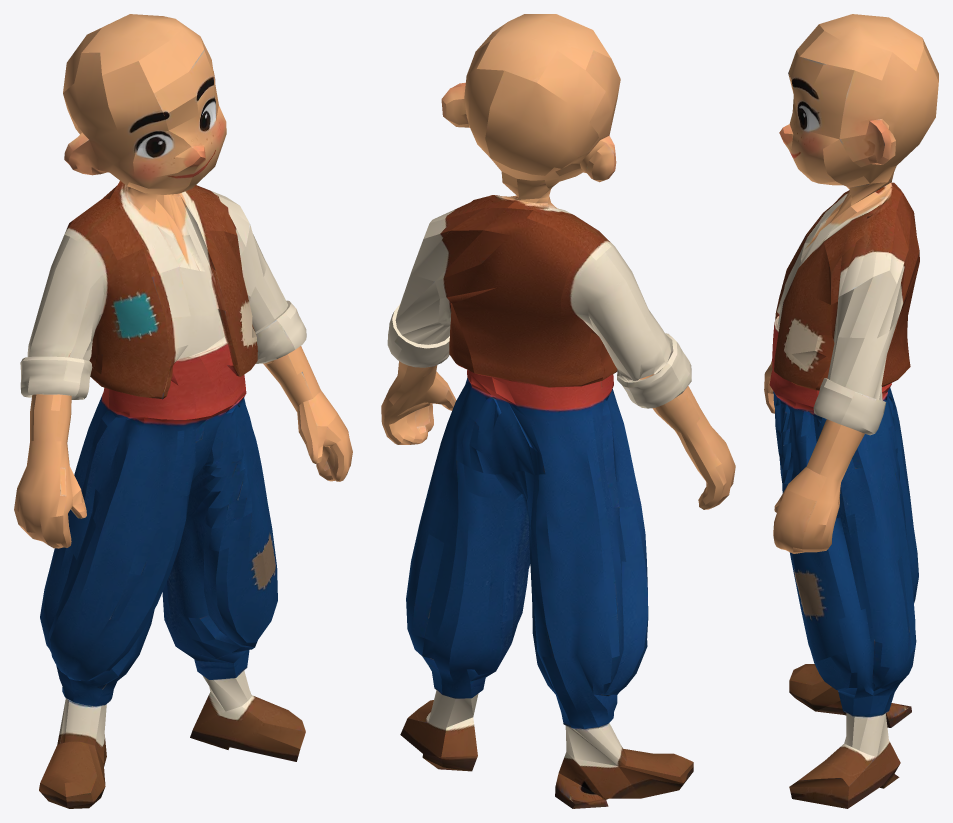
The model's file is keloglan.glb.
The picture shows the model from 3 angles, left to right: view 1: azimuth 30°, elevation 25°; view 2: azimuth 150°, elevation 25°; view 3: azimuth 270°, elevation 25°; orthographic projection. The views are drawn at different scales.
Visible parts, largest first — view 1: Mesh0; view 2: Mesh0; view 3: Mesh0.
Boxes of the visible parts, x1,y1,x2,y2 form: Mesh0: (14, 14, 352, 808); Mesh0: (381, 14, 735, 808); Mesh0: (764, 14, 938, 808).
Bounding box in the file's own units: 0.8831 × 1.9 × 0.4166.
1 material, 1 textured.
